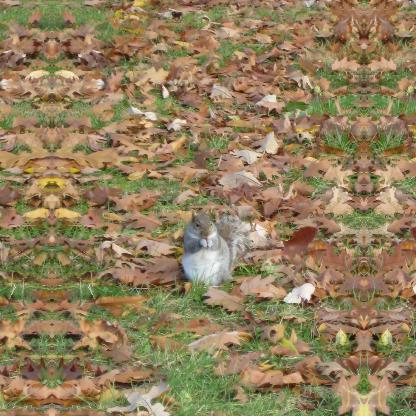Squirrel: (169, 198, 254, 290)
